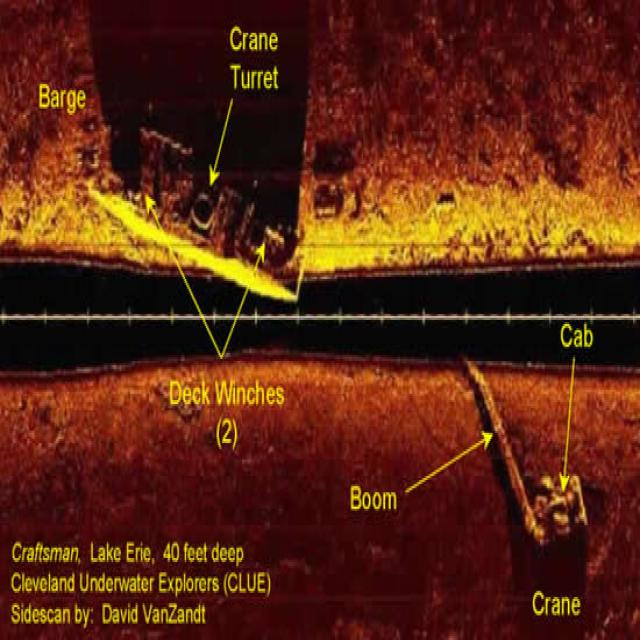ship: (84, 121, 302, 312), (462, 357, 589, 548)
